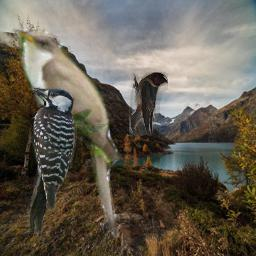Cuckoo: (7, 23, 124, 241)
Swallow: (129, 72, 168, 136)
Woodpecker: (26, 84, 78, 234)
